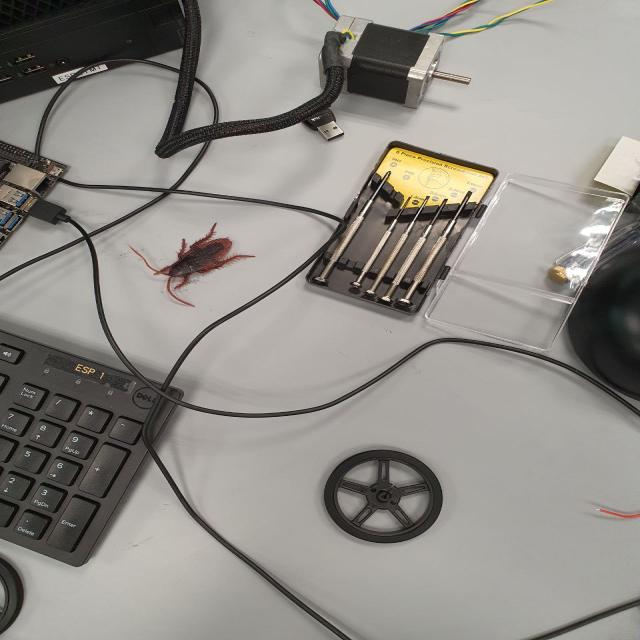Cockroach: (124, 228, 261, 312)
